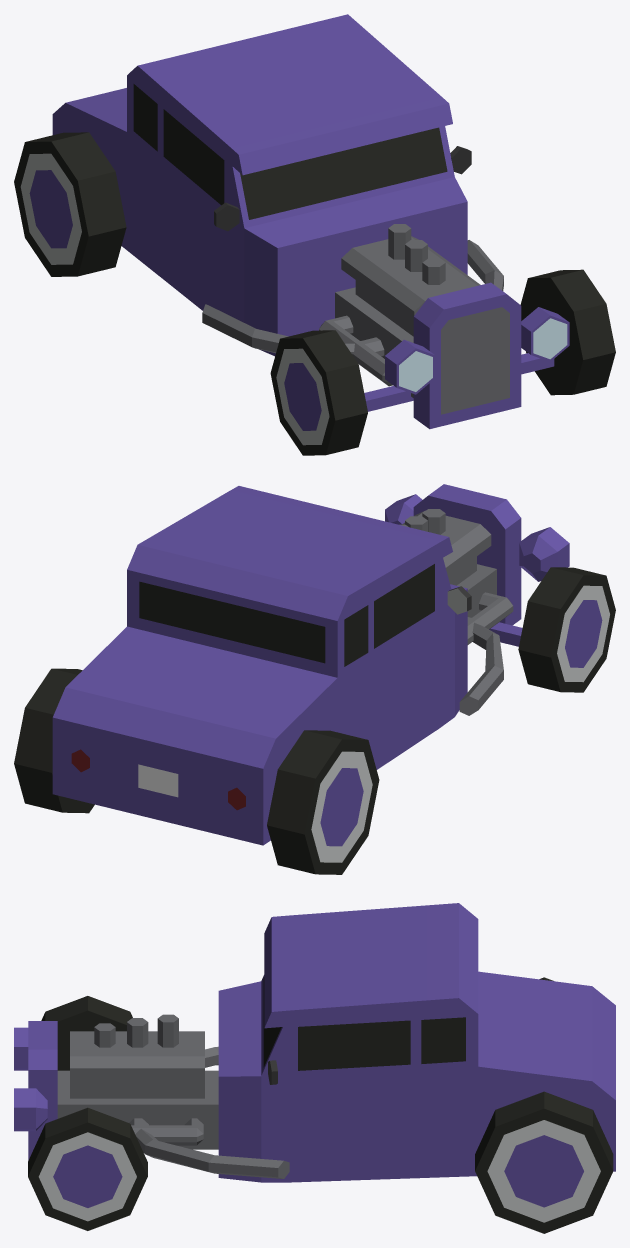
File: Veh_HotRod_Purple.glb
The picture shows the model from 3 angles, top to bottom: view 1: azimuth 30°, elevation 25°; view 2: azimuth 150°, elevation 25°; view 3: azimuth 270°, elevation 25°; orthographic projection. The views are drawn at different scales.
Parts seen in each view (by area): view 1: HotRod_Purple, Wheel_RR, Wheel_FR, Wheel_FL; view 2: HotRod_Purple, Wheel_RR, Wheel_FR, Wheel_RL; view 3: HotRod_Purple, Wheel_RL, Wheel_FL, Wheel_FR.
Part boxes in pixels (x1,y1,x2,y2): HotRod_Purple: (52,14,569,429); Wheel_RR: (14,132,126,276); Wheel_FR: (270,330,367,455); Wheel_FL: (520,269,615,395); HotRod_Purple: (52,484,569,845); Wheel_RR: (267,730,379,874); Wheel_FR: (518,567,615,692); Wheel_RL: (14,668,94,813); HotRod_Purple: (14,903,615,1182); Wheel_RL: (475,1091,613,1233); Wheel_FL: (28,1107,147,1230); Wheel_FR: (41,996,132,1070).
Bounding box in the file's own units: 1.21 × 0.9391 × 2.35.
Materials: 1 (1 with a texture image).
